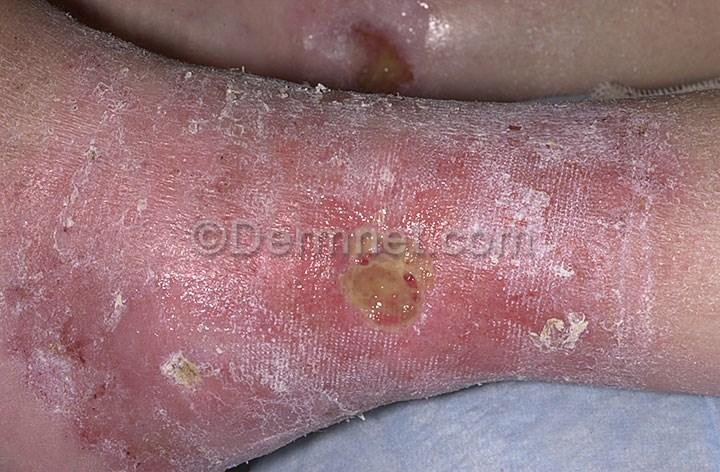Eczema: (61, 113, 264, 298), (486, 217, 690, 397), (270, 87, 521, 204), (125, 312, 316, 427), (497, 114, 692, 223), (0, 253, 121, 424), (306, 203, 452, 334), (299, 6, 441, 98), (333, 336, 502, 402), (146, 51, 298, 118)
